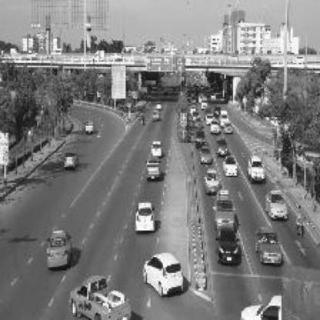other: (131, 198, 150, 234)
